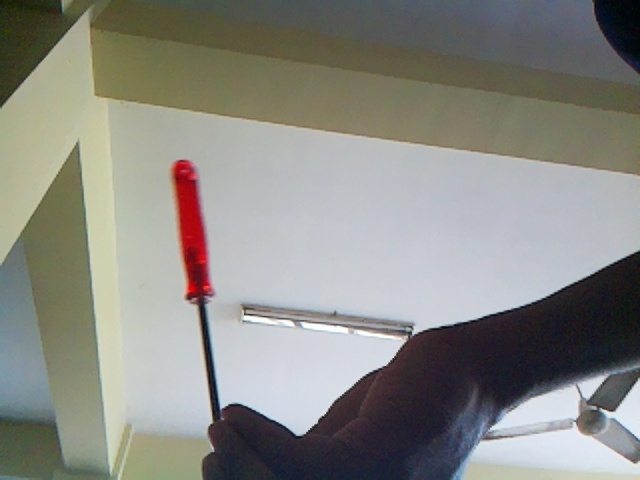redskrew: (165, 163, 255, 425)
